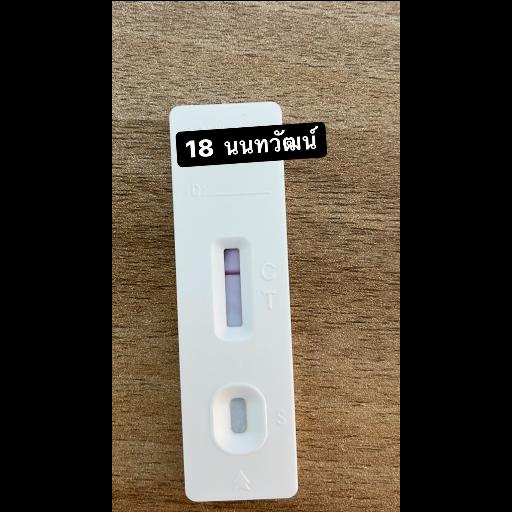Neg: (165, 100, 298, 502)
